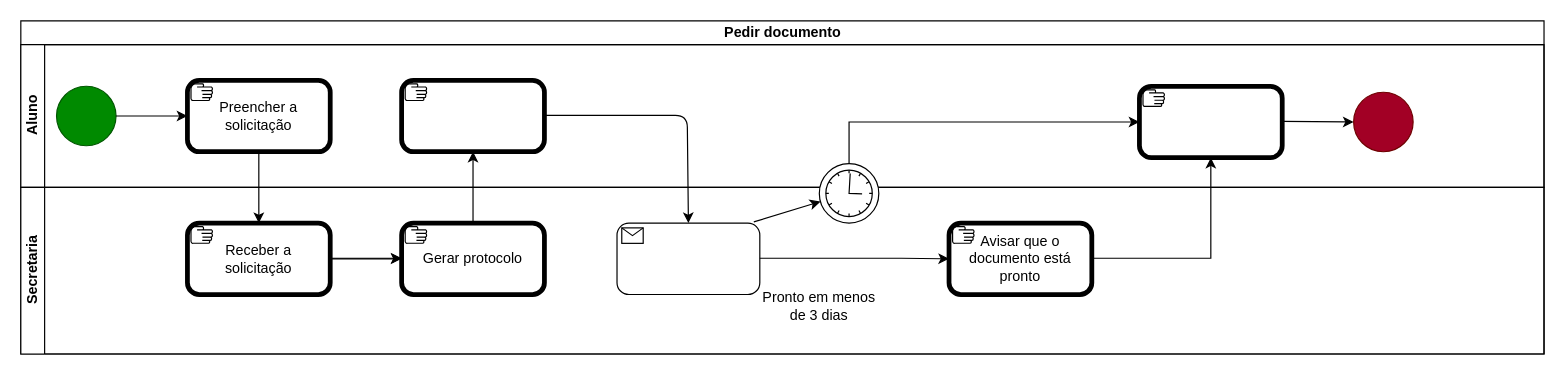
This 1565x375 diagram has some shape labels left out. The shapes that lost their labels are listed below. From the top down, each one's centre as x and y in pixels, then its label:
At (472,115): "Receber protocolo".
At (1210,121): "Receber o documento".
At (688,258): "Elaborar o documento".
